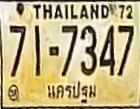1: (34, 25, 41, 77)
3: (80, 25, 96, 75)
4: (99, 24, 114, 75)
7: (9, 24, 26, 77), (61, 24, 77, 76), (117, 25, 133, 77)
NPT: (45, 79, 98, 105)
